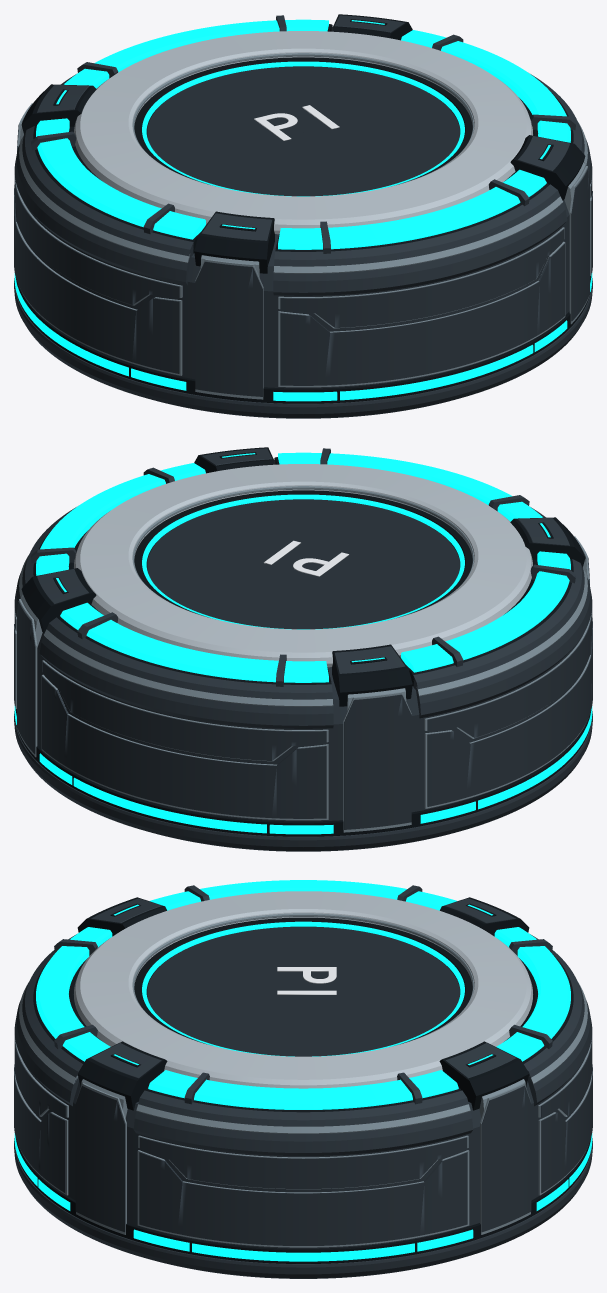
Rendered from Toppler.fbx.
3 renders of one model, top to bottom at view 1: azimuth 30°, elevation 25°; view 2: azimuth 150°, elevation 25°; view 3: azimuth 270°, elevation 25°, orthographic.
Parts seen in each view (by area): view 1: SM_Puck_Toppler_P1_HighDetail; view 2: SM_Puck_Toppler_P1_HighDetail; view 3: SM_Puck_Toppler_P1_HighDetail.
Boxes of the visible parts, x1,y1,x2,y2 form: SM_Puck_Toppler_P1_HighDetail: (14,14,592,418); SM_Puck_Toppler_P1_HighDetail: (14,447,592,851); SM_Puck_Toppler_P1_HighDetail: (14,880,592,1278).
Bounding box in the file's own units: 90.3 × 90.3 × 30.7.
